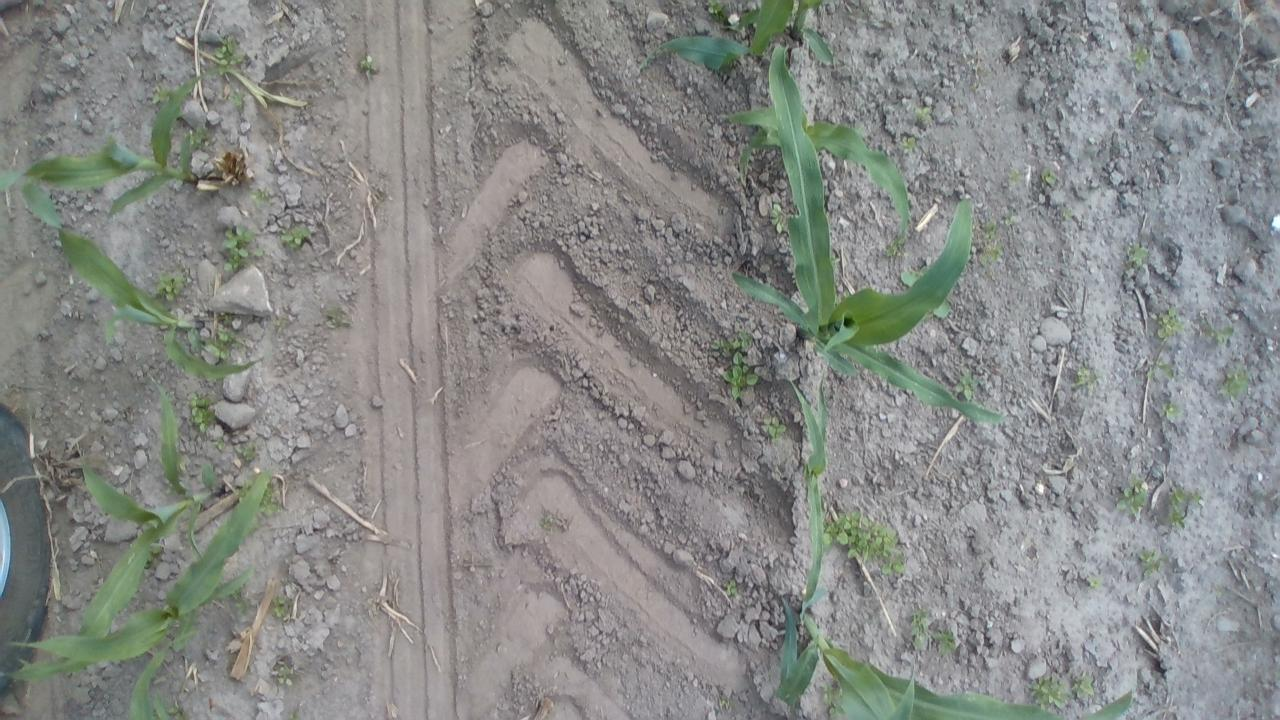Maize: (728, 44, 1014, 436), (10, 467, 284, 720), (3, 172, 270, 384), (772, 584, 1140, 720), (75, 366, 233, 646), (0, 68, 226, 214), (712, 96, 924, 246), (775, 369, 853, 616), (629, 0, 838, 82)
Weeds: (822, 509, 908, 580), (712, 328, 762, 395), (212, 226, 266, 277), (908, 609, 958, 656), (1166, 482, 1204, 534), (1026, 672, 1072, 712), (1116, 473, 1152, 519), (1130, 544, 1174, 580), (188, 390, 220, 438), (1213, 360, 1251, 400), (212, 35, 248, 74), (1147, 303, 1185, 339), (276, 215, 312, 251), (950, 368, 986, 403), (1142, 352, 1179, 386), (1154, 397, 1194, 428), (1068, 362, 1104, 395), (153, 268, 183, 307), (264, 658, 298, 691), (1068, 669, 1100, 702), (315, 304, 350, 334), (768, 207, 794, 246), (757, 411, 785, 447), (1124, 42, 1160, 70), (1203, 318, 1239, 346), (142, 81, 174, 109), (1124, 238, 1152, 270), (894, 268, 928, 294), (218, 316, 240, 352), (820, 684, 844, 716), (249, 186, 278, 212), (1034, 164, 1060, 192), (704, 0, 733, 25), (911, 105, 942, 128), (350, 50, 375, 78), (1052, 201, 1078, 227), (268, 592, 292, 620), (1002, 164, 1026, 192), (162, 697, 186, 720), (234, 441, 258, 464), (986, 241, 1006, 268), (720, 578, 740, 602), (1084, 570, 1104, 594), (897, 134, 916, 159), (978, 218, 997, 242), (226, 87, 244, 112), (210, 434, 228, 454), (716, 694, 734, 714), (1003, 208, 1018, 231), (934, 303, 954, 320)
